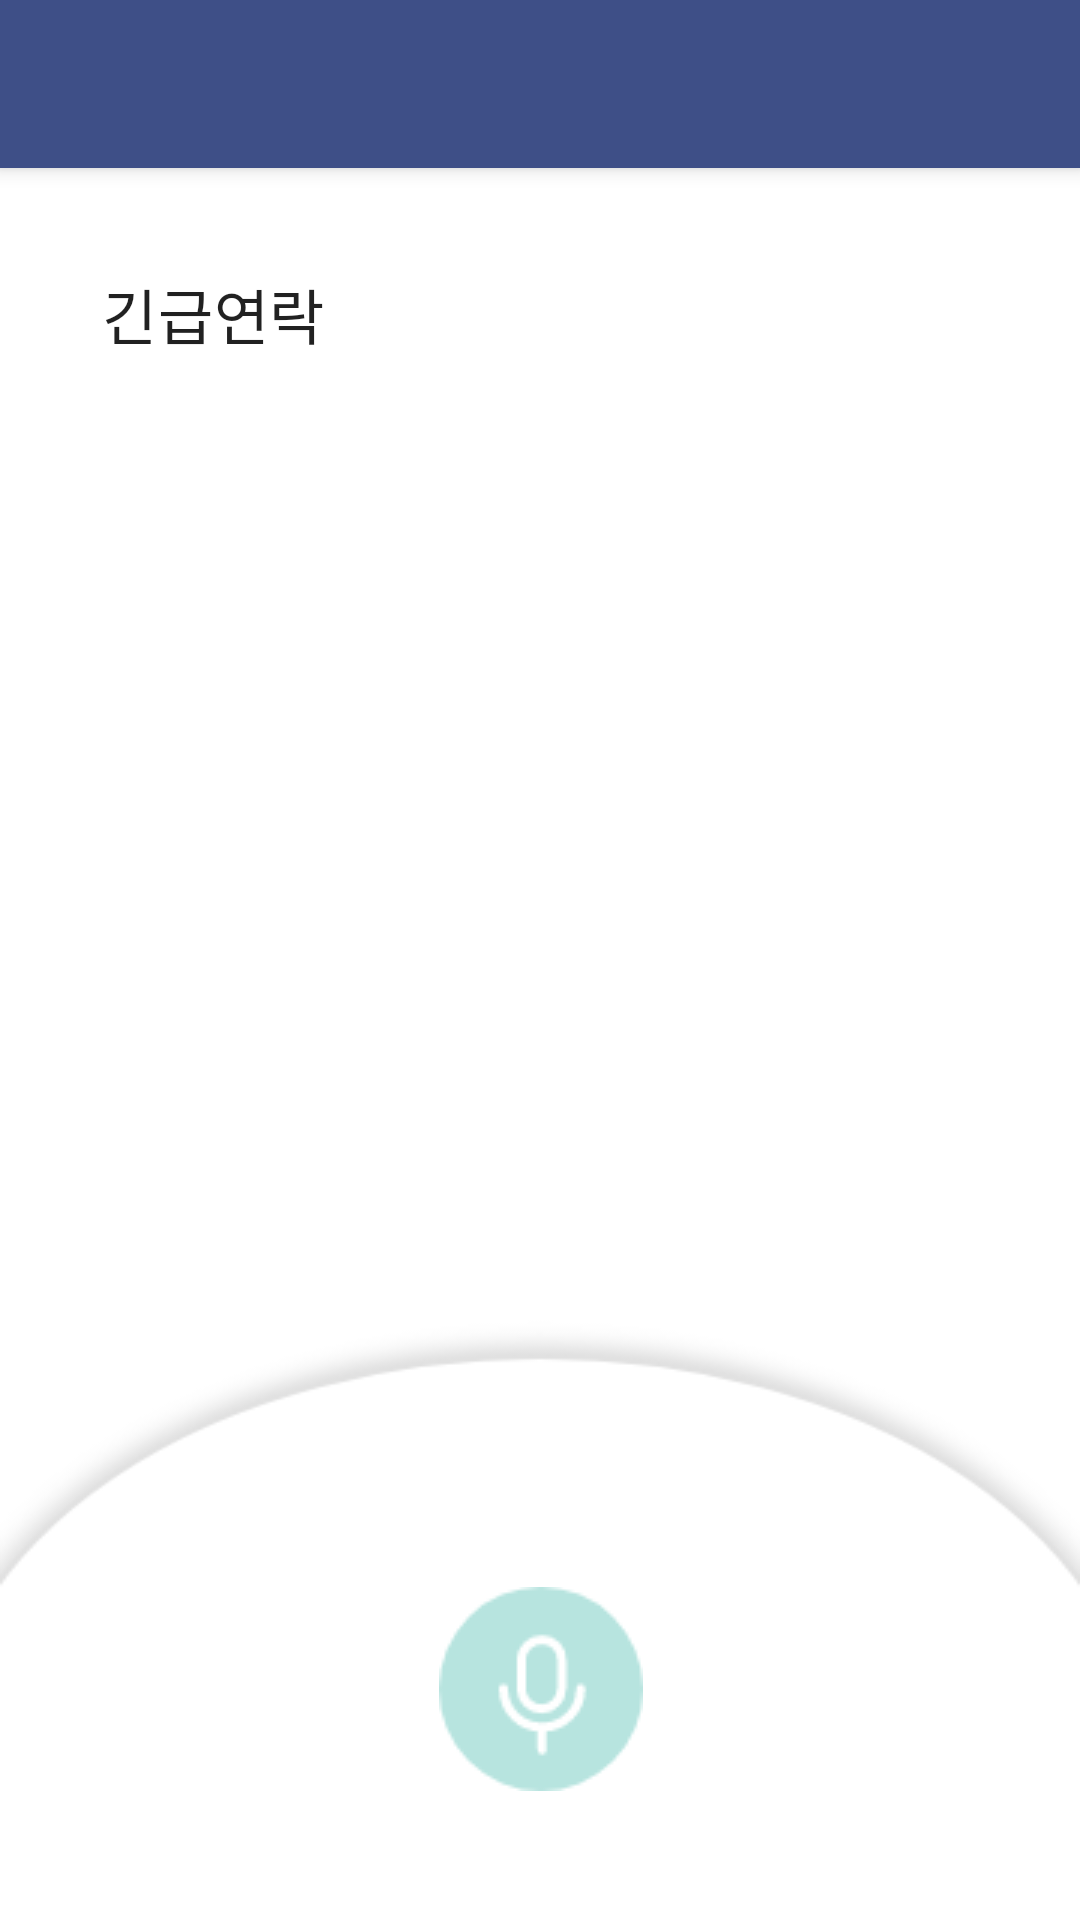

Where icons sit on this 1080px×1920px app screen, as (x1, y1, x2, y2):
mic: (439, 1587, 643, 1791)
